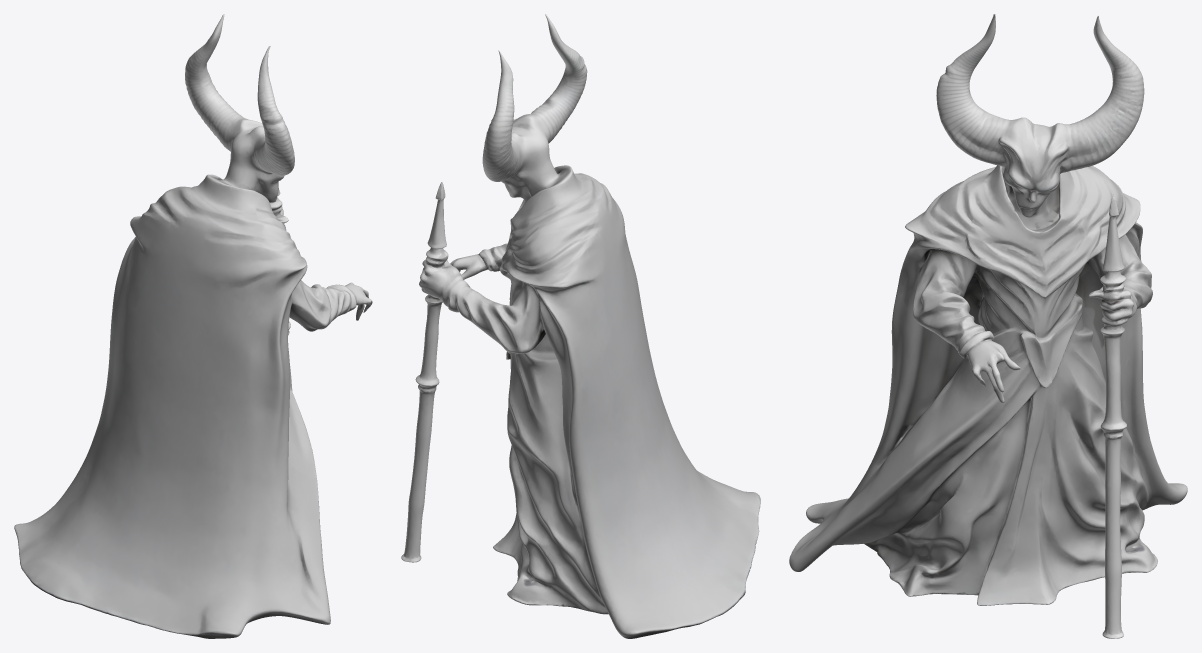
File: gran_demonio.fbx
The picture shows the model from 3 angles, left to right: view 1: azimuth 30°, elevation 25°; view 2: azimuth 150°, elevation 25°; view 3: azimuth 270°, elevation 25°; orthographic projection. The views are drawn at different scales.
Visible parts, largest first — view 1: tripo_node_d96562c1; view 2: tripo_node_d96562c1; view 3: tripo_node_d96562c1.
Part boxes in pixels (<box>): tripo_node_d96562c1: <box>14,14,372,638</box>; tripo_node_d96562c1: <box>401,14,760,638</box>; tripo_node_d96562c1: <box>789,14,1187,638</box>.
Size of the model in its own units: 0.6289 by 1 by 0.6245.
1 material, 1 textured.
